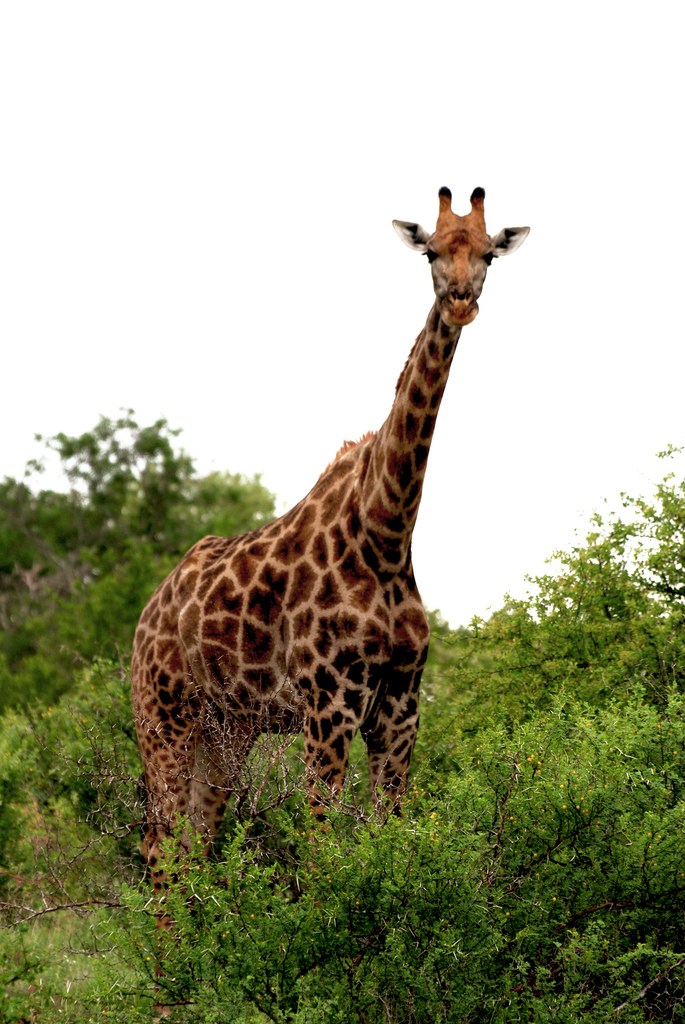giraffe: (72, 177, 562, 905)
